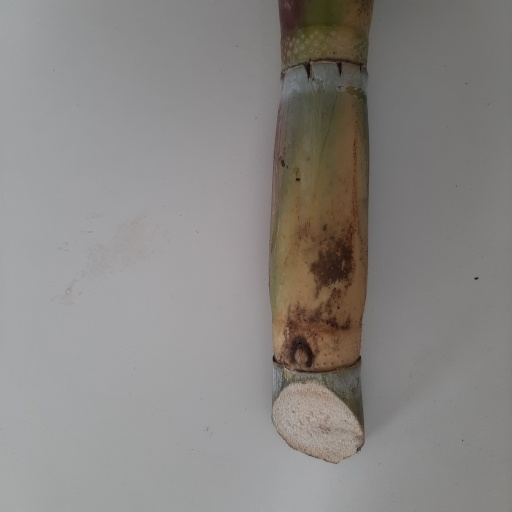Bud: (291, 344, 312, 372)
